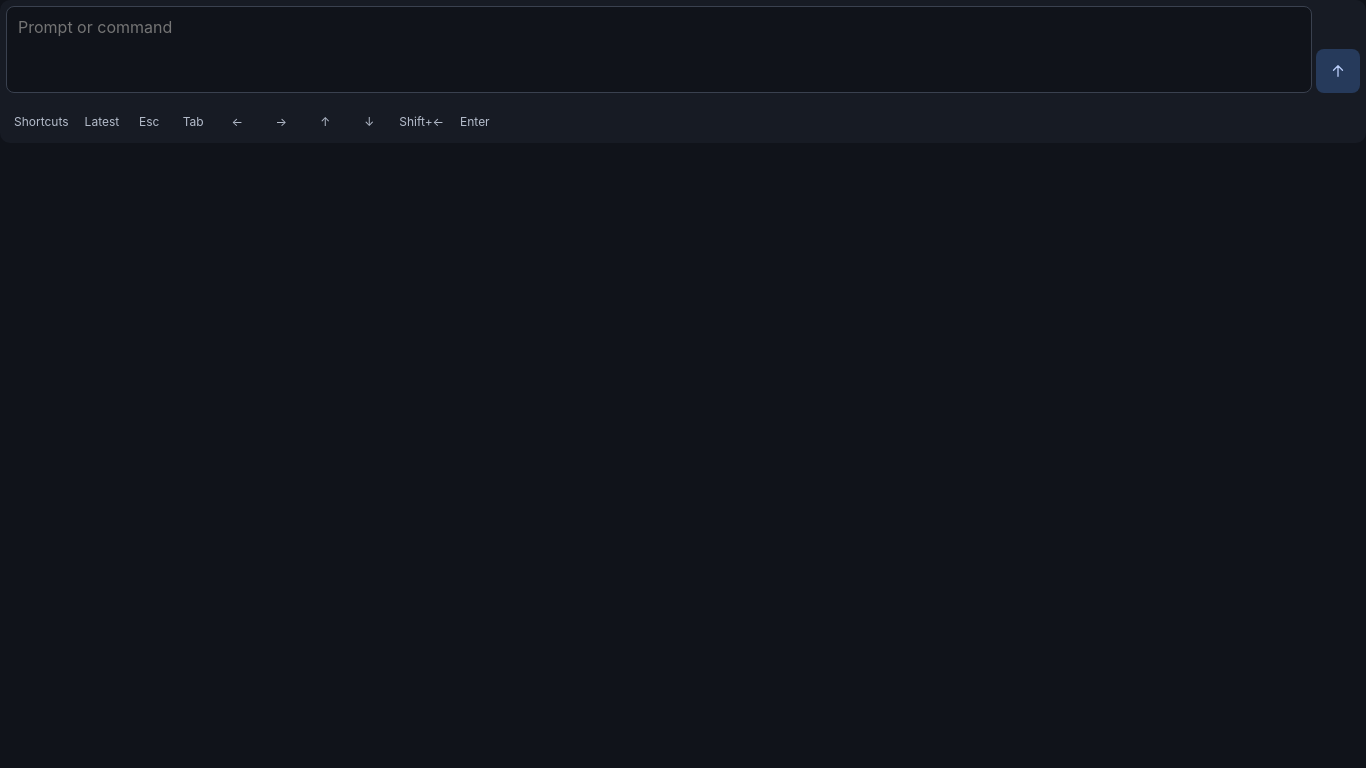
Test: shows an unconfirmed saved-command Enter inside the open shortcuts dialog
Click the button "Shortcuts" at (41, 121), box [6,99,77,143]
(page scrolled)
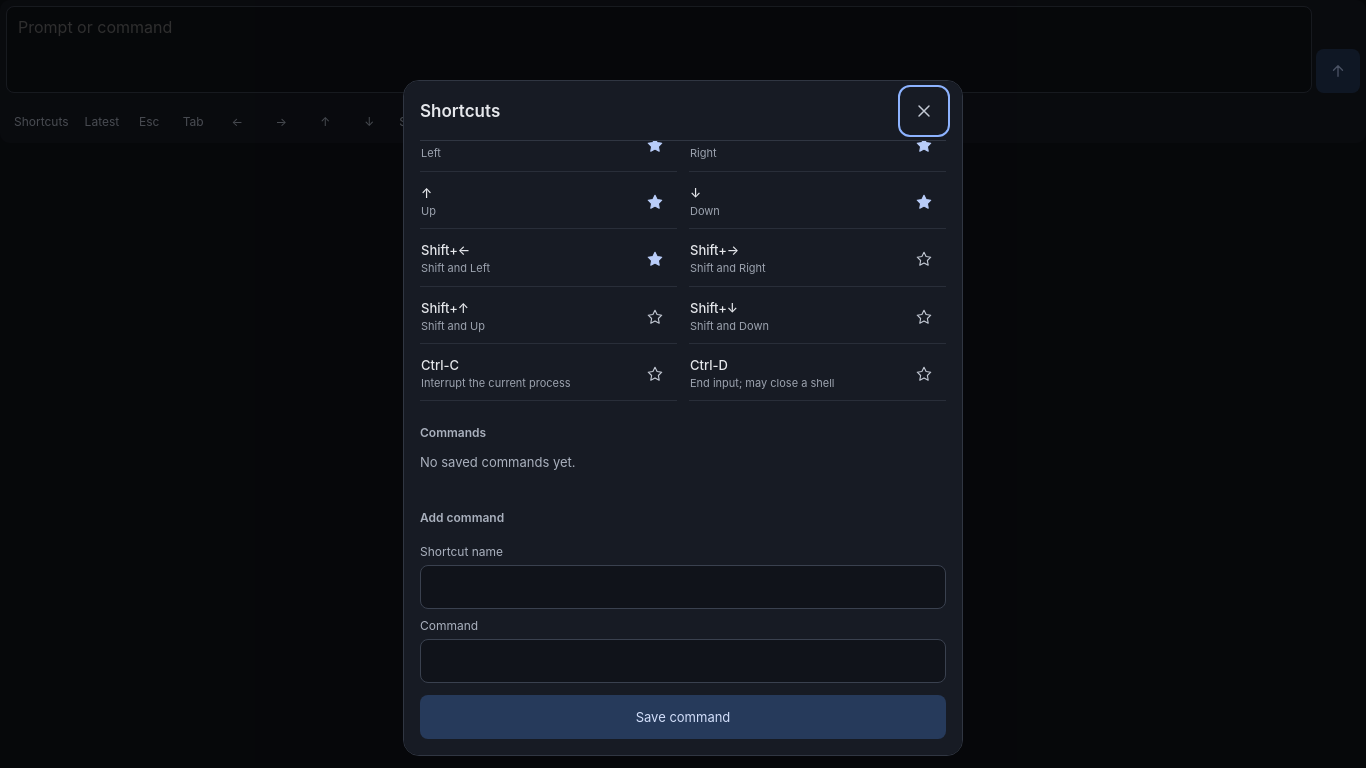
Type "Launch" into the field labelled "Shortcut name" at (683, 587), box [420,565,946,609]
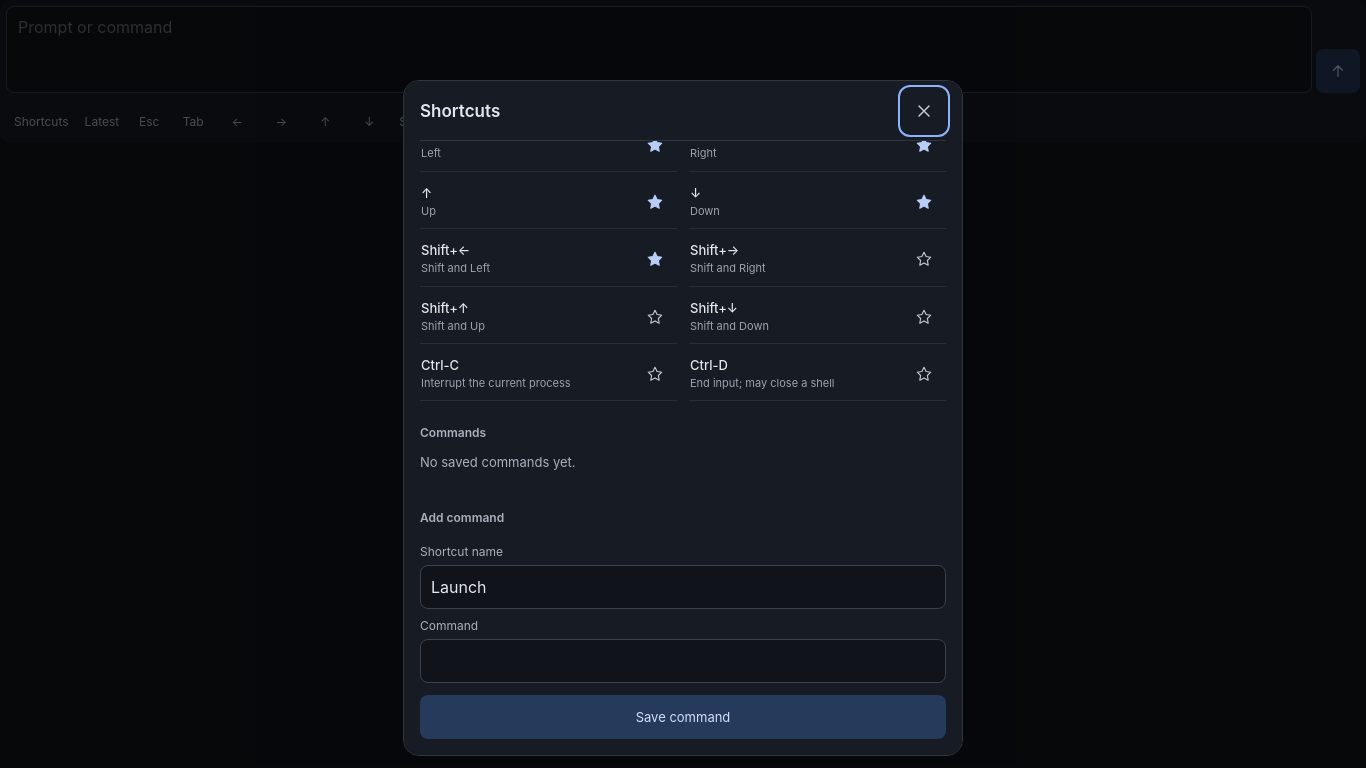
Type "launcher" into the field labelled "Command" at (683, 661), box [420,639,946,683]
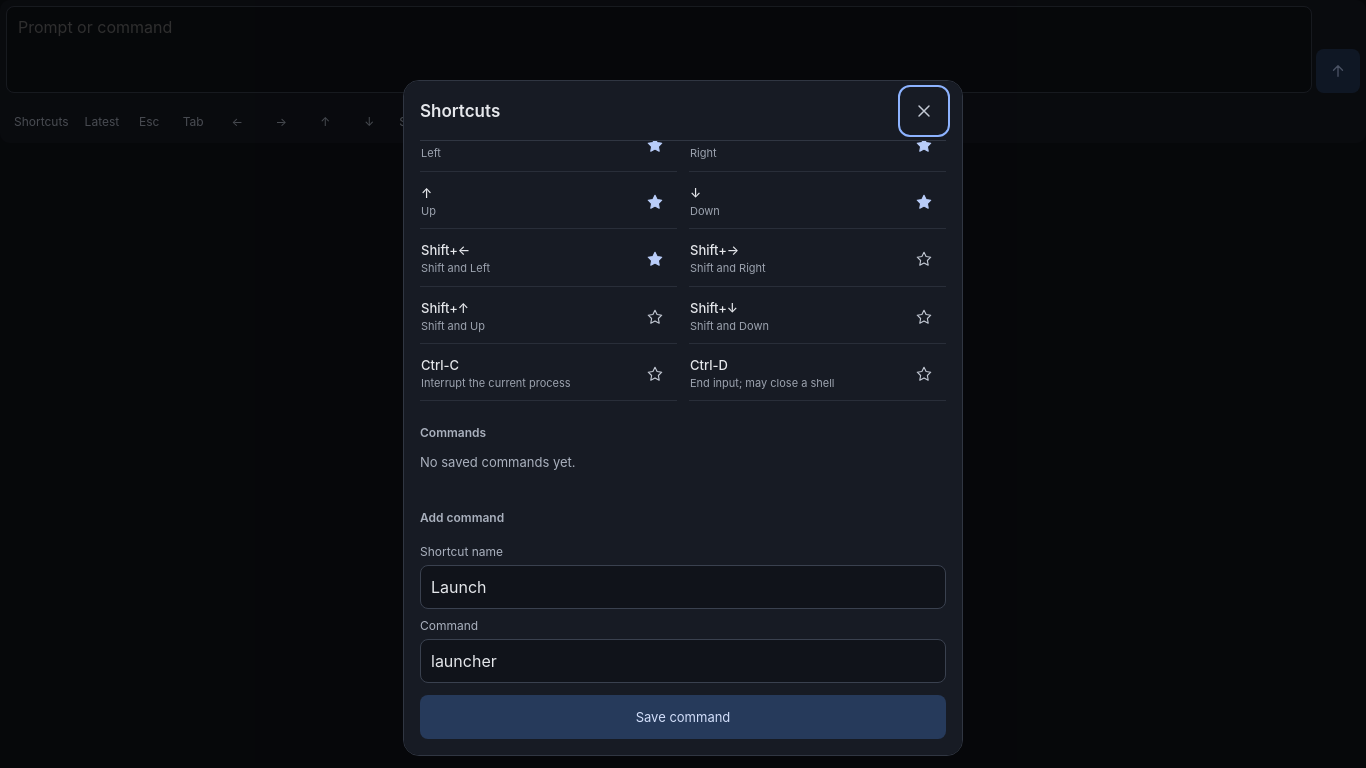
Click the button "Save command" at (683, 717), box [420,695,946,739]
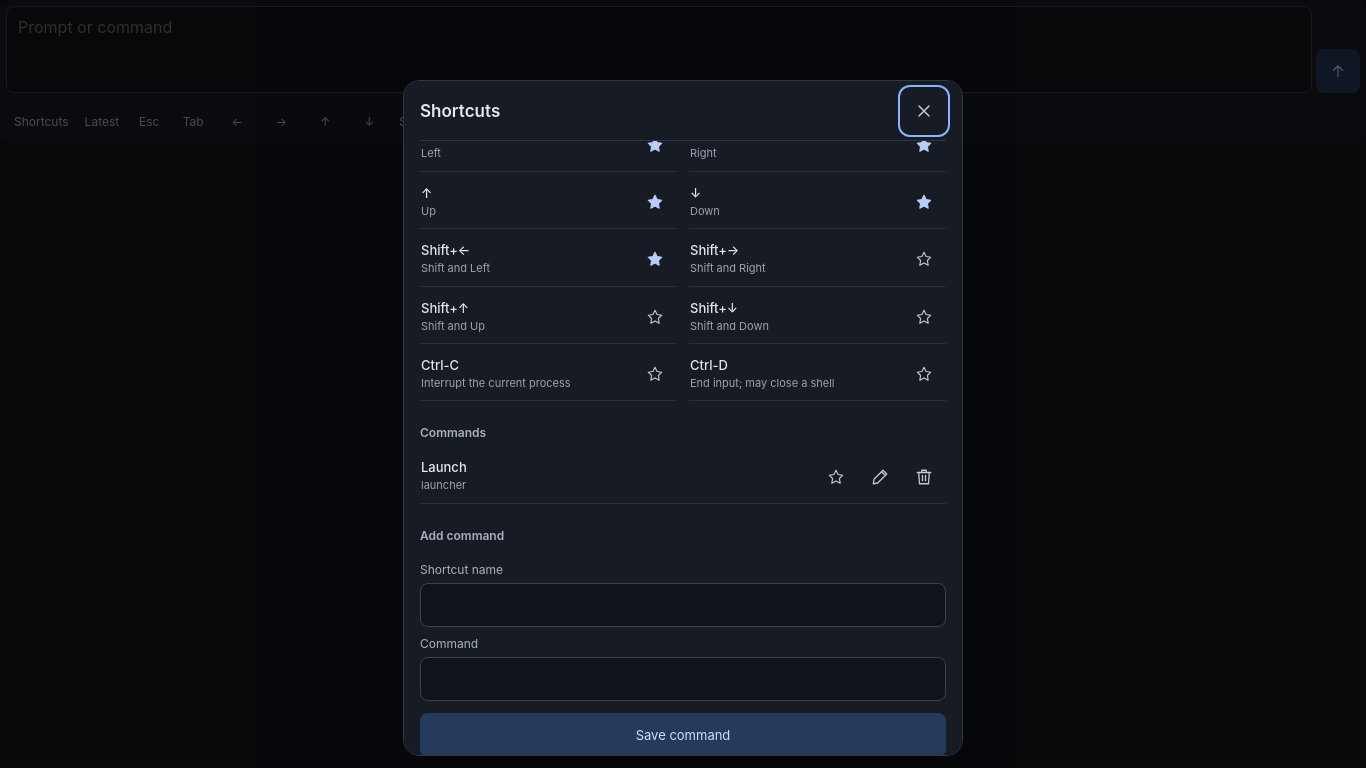
Click the button "Launch launcher" at (444, 467), box [420,450,814,503]
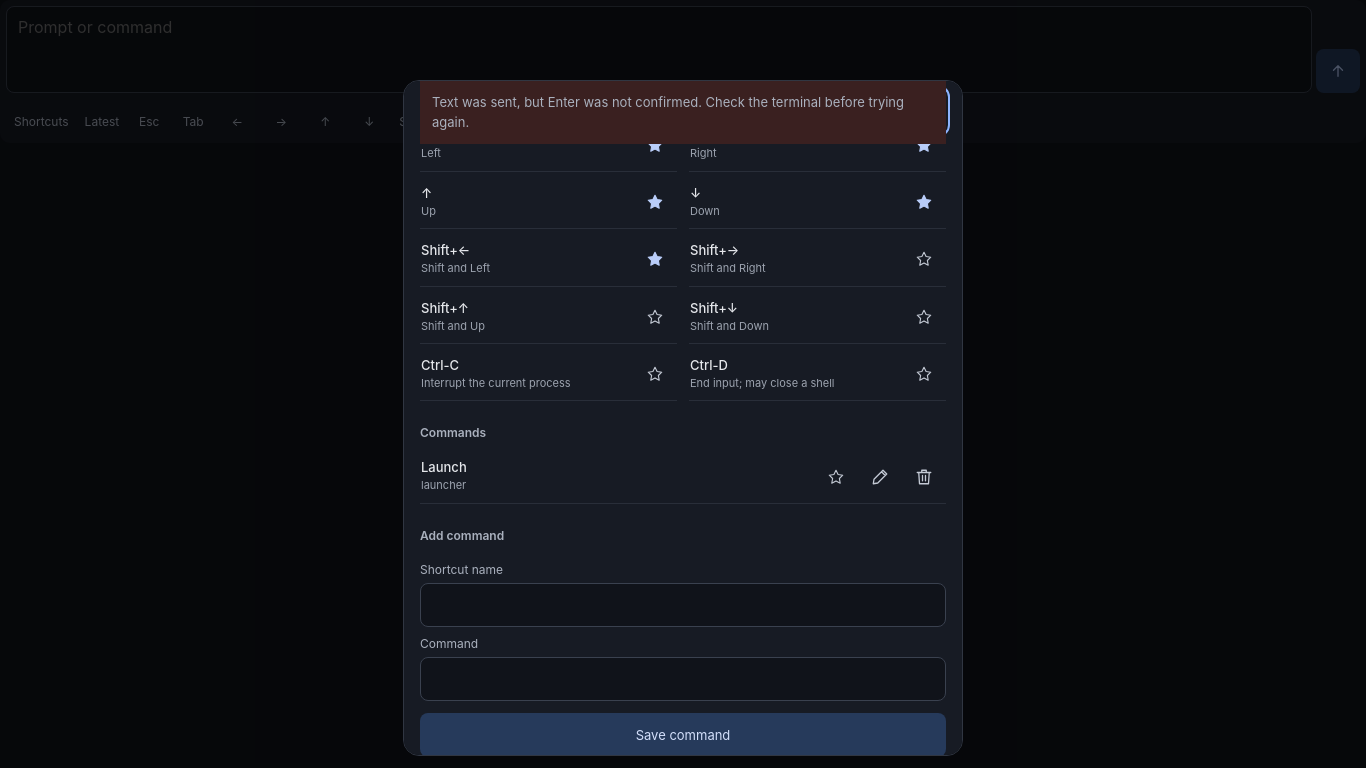
Result: the message shows "Enter was not confirmed" at [432,94,904,130]
